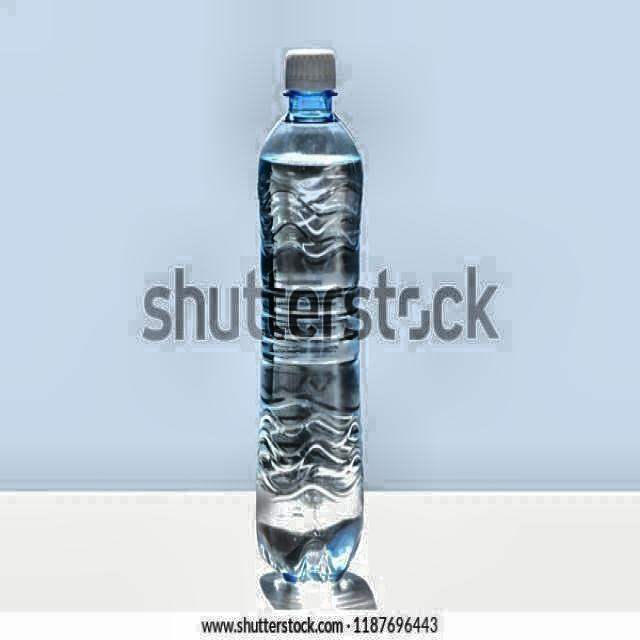plastic bottle: (257, 49, 363, 584)
